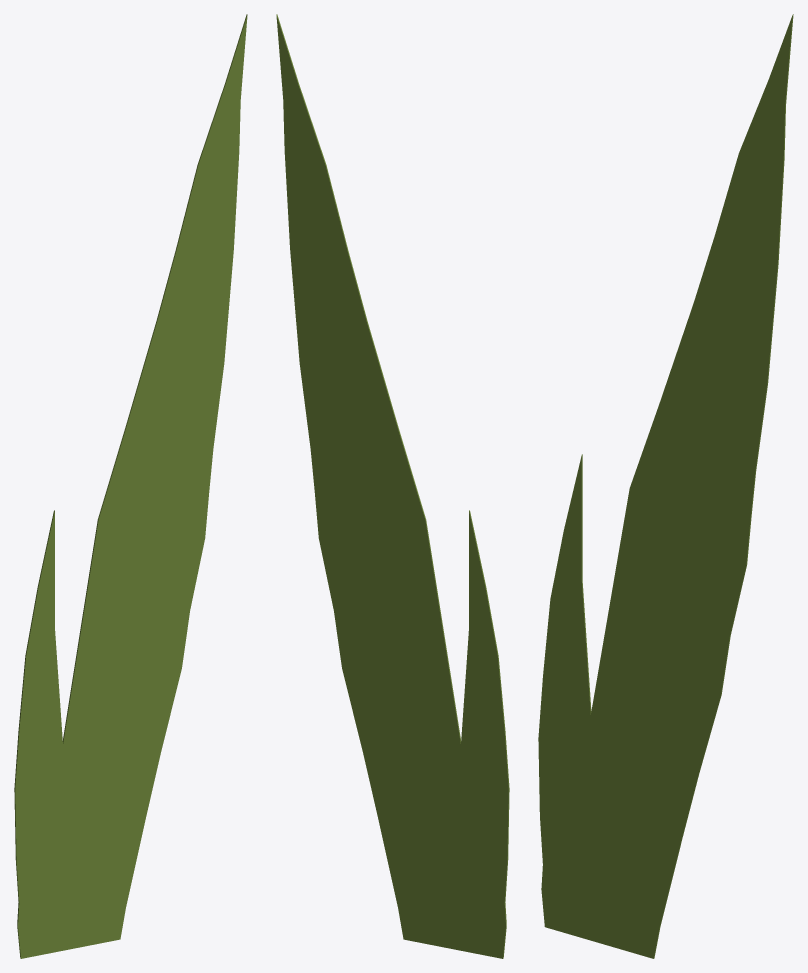
File: tower.fbx_grass_002.fbx
3 renders of one model, left to right at view 1: azimuth 30°, elevation 25°; view 2: azimuth 150°, elevation 25°; view 3: azimuth 330°, elevation 25°, orthographic. The views are drawn at different scales.
Parts seen in each view (by area): view 1: Vert.004; view 2: Vert.004; view 3: Vert.004.
Part boxes in pixels (bbox=[...]): Vert.004: bbox=[14, 14, 247, 958]; Vert.004: bbox=[276, 14, 509, 958]; Vert.004: bbox=[538, 14, 793, 958].
Size of the model in its own units: 171 by 628 by 1.
